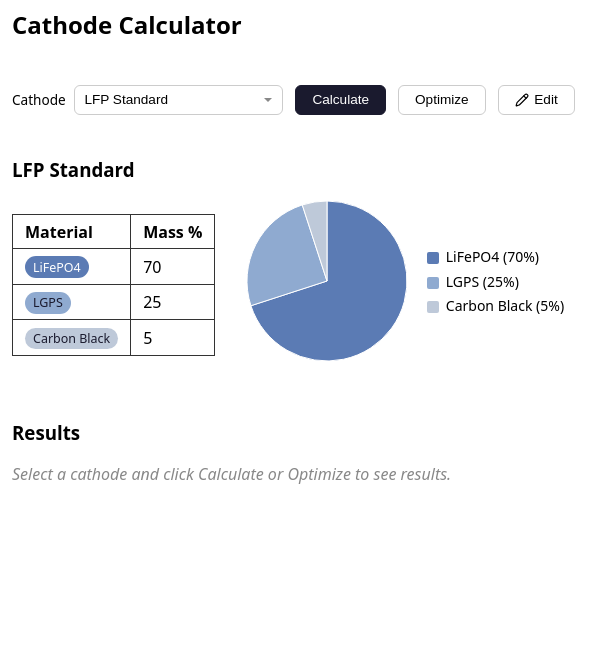
Test: OptimizerView › clears results when cathode selector changes
Click the button "Calculate" at {"x": 341, "y": 100}, box left=295, top=85, right=386, bottom=115
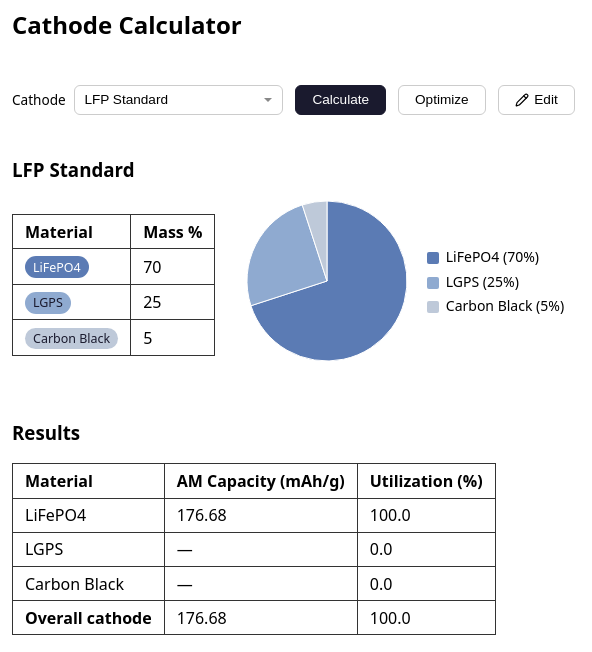
Expected: the text "Overall cathode" is shown, left=25, top=607, right=152, bottom=629
Select "LFP Standard" in the dropdown labelled "Cathode" at {"x": 179, "y": 100}, box left=74, top=85, right=283, bottom=115
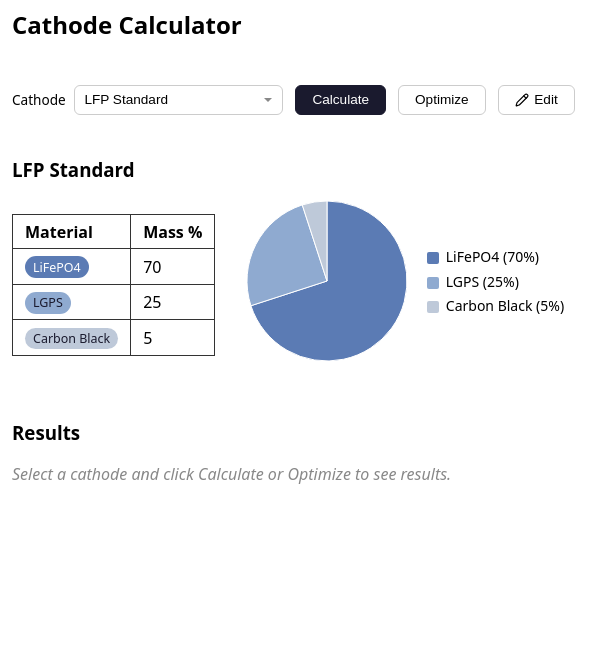
Expected: the text "Overall cathode" is gone
Expected: the text "Select a cathode and click Calculate" is shown, left=12, top=464, right=451, bottom=486
